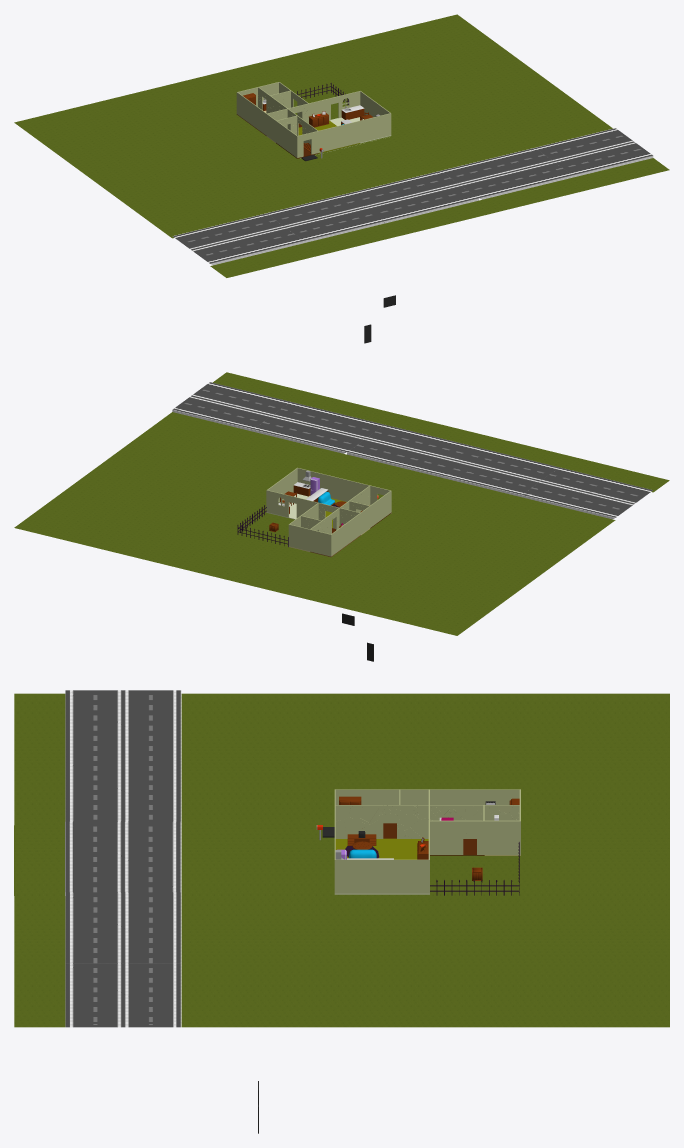
The model's file is House_of_Old_Lady.fbx.
3 views of the same model, one above another, from view 1: azimuth 30°, elevation 25°; view 2: azimuth 150°, elevation 25°; view 3: azimuth 270°, elevation 25° (orthographic). The views are drawn at different scales.
Visible parts, largest first — view 1: GarageOutdoorEnv, EntranceGarden, UnbreakableWall.002, UnbreakableWall.013, UnbreakableWall.003, UnbreakableWall; view 2: GarageOutdoorEnv, EntranceGarden, Garden, UnbreakableWall.013, UnbreakableWall.002, UnbreakableWall, UnbreakableWall.011, UnbreakableWall.005, UnbreakableWall.012, Fences; view 3: GarageOutdoorEnv, EntranceGarden, Garden, UnbreakableWall.004, UnbreakableWall.013, UnbreakableWall.010, LivingRoom, UnbreakableWall, UnbreakableWall.009.
Boxes of the visible parts, left/top/right/bottom form: GarageOutdoorEnv: left=14, top=14, right=669, bottom=277; EntranceGarden: left=297, top=136, right=438, bottom=193; UnbreakableWall.002: left=318, top=121, right=359, bottom=152; UnbreakableWall.013: left=236, top=92, right=266, bottom=135; UnbreakableWall.003: left=360, top=113, right=390, bottom=142; UnbreakableWall: left=276, top=120, right=297, bottom=157; GarageOutdoorEnv: left=14, top=372, right=669, bottom=635; EntranceGarden: left=321, top=454, right=440, bottom=513; Garden: left=236, top=513, right=293, bottom=548; UnbreakableWall.013: left=330, top=513, right=360, bottom=556; UnbreakableWall.002: left=328, top=475, right=370, bottom=501; UnbreakableWall: left=370, top=490, right=391, bottom=527; UnbreakableWall.011: left=289, top=524, right=310, bottom=551; UnbreakableWall.005: left=266, top=490, right=287, bottom=516; UnbreakableWall.012: left=310, top=529, right=330, bottom=556; Fences: left=237, top=505, right=288, bottom=546; GarageOutdoorEnv: left=14, top=690, right=669, bottom=1027; EntranceGarden: left=181, top=825, right=334, bottom=895; Garden: left=429, top=855, right=524, bottom=895; UnbreakableWall.004: left=334, top=859, right=428, bottom=893; UnbreakableWall.013: left=429, top=789, right=520, bottom=820; UnbreakableWall.010: left=483, top=820, right=520, bottom=854; LivingRoom: left=335, top=838, right=428, bottom=859; UnbreakableWall: left=335, top=789, right=399, bottom=823; UnbreakableWall.009: left=430, top=820, right=457, bottom=854.
Size of what is drawn, in the model's own units: 42.32 by 18.19 by 35.17.
17 materials, 2 textured.
